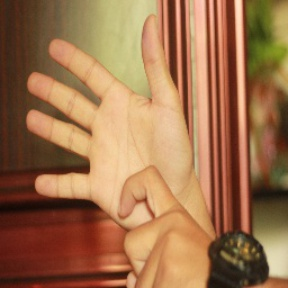R: (22, 12, 210, 288)
